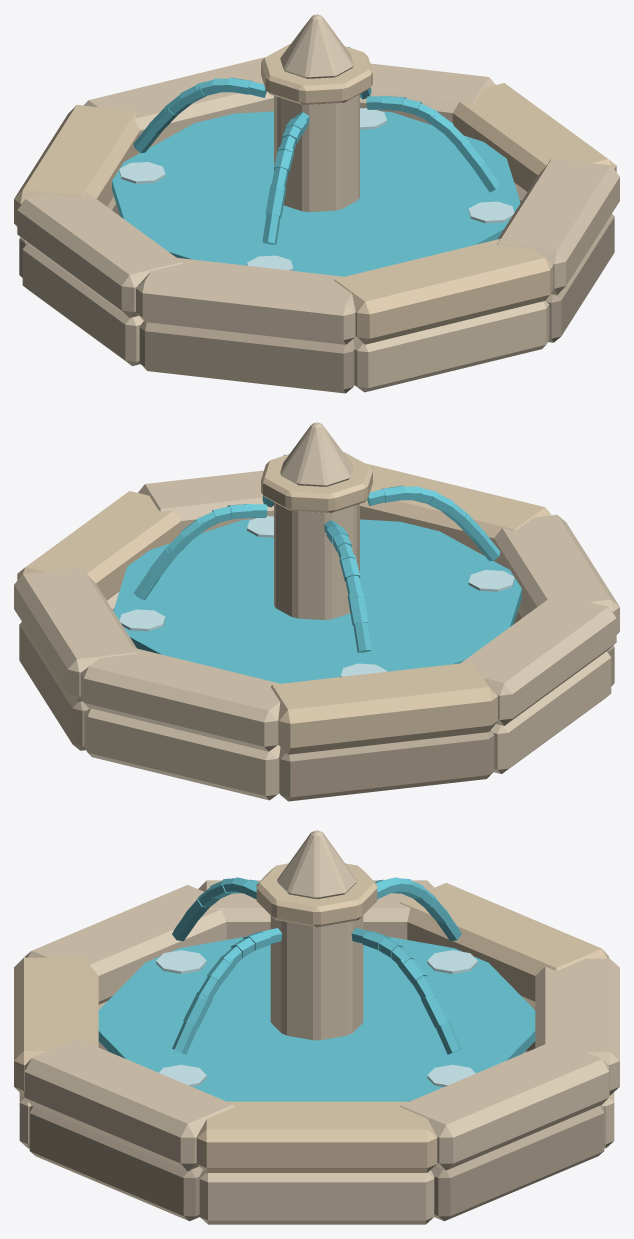
File: small_fountain.glb
3 renders of one model, top to bottom at view 1: azimuth 30°, elevation 25°; view 2: azimuth 150°, elevation 25°; view 3: azimuth 270°, elevation 25°, orthographic. The views are drawn at different scales.
Visible parts, largest first — view 1: small_fountain, part_basin_water, part_streams; view 2: small_fountain, part_basin_water, part_streams; view 3: small_fountain, part_basin_water, part_streams.
Part boxes in pixels (box(x1,y1,x2,y2)): small_fountain: box(14, 14, 619, 393); part_basin_water: box(112, 110, 520, 276); part_streams: box(119, 47, 514, 270); small_fountain: box(14, 422, 619, 801); part_basin_water: box(113, 518, 521, 683); part_streams: box(119, 455, 514, 676); small_fountain: box(14, 830, 619, 1224); part_basin_water: box(98, 937, 535, 1101); part_streams: box(156, 877, 477, 1086).
Bounding box in the file's own units: 2.15 × 1.06 × 2.15.
